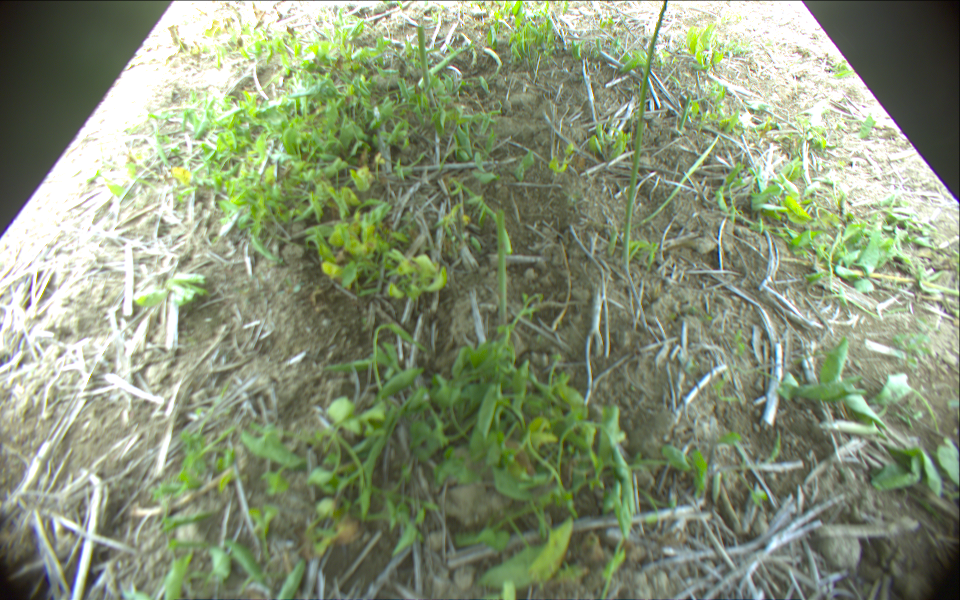aspa: (625, 1, 668, 273), (418, 44, 473, 91), (497, 209, 510, 347), (418, 27, 439, 107)
